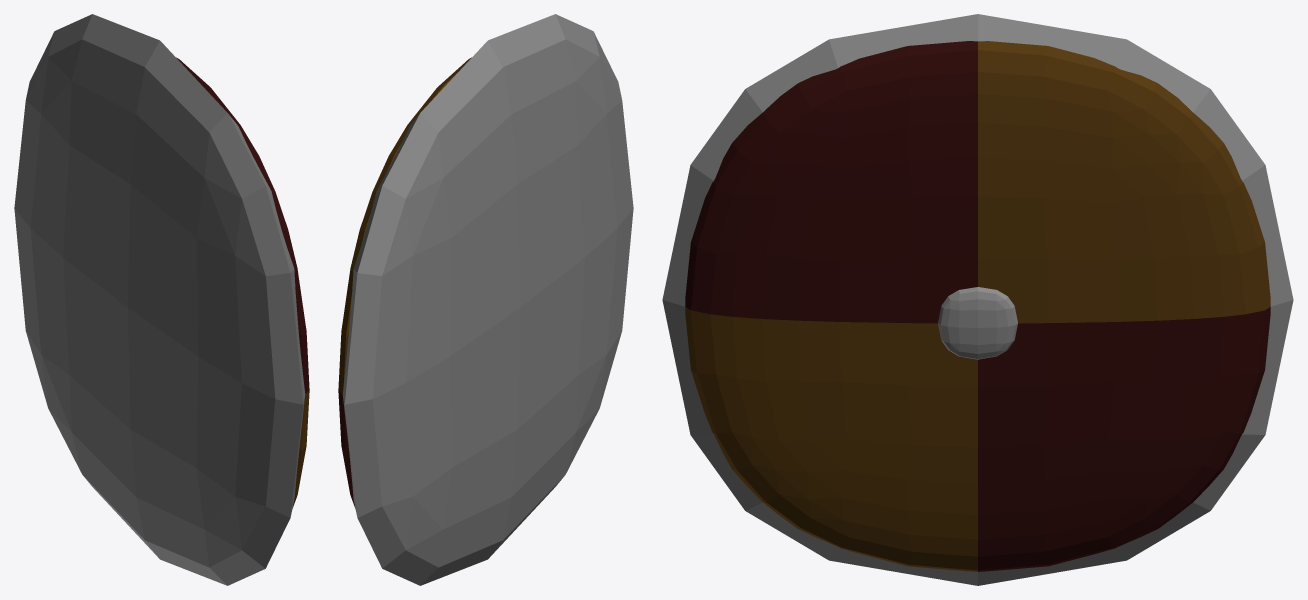
The model's file is scut.fbx.
3 renders of one model, left to right at view 1: azimuth 30°, elevation 25°; view 2: azimuth 150°, elevation 25°; view 3: azimuth 270°, elevation 25°, orthographic. The views are drawn at different scales.
Parts seen in each view (by area): view 1: Cube, Cube.002, Cube.001; view 2: Cube, Cube.001, Cube.002; view 3: Cube.002, Cube.001, Cube, Cube.003.
Part boxes in pixels (x1,y1,x2,y2): Cube: (14, 14, 305, 585); Cube.002: (177, 58, 309, 393); Cube.001: (176, 57, 309, 507); Cube: (342, 14, 633, 585); Cube.001: (338, 58, 470, 393); Cube.002: (338, 57, 471, 507); Cube.002: (685, 41, 1270, 571); Cube.001: (685, 41, 1270, 571); Cube: (662, 14, 1293, 585); Cube.003: (938, 287, 1017, 359).
Bounding box in the file's own units: 40.57 × 239 × 239.
